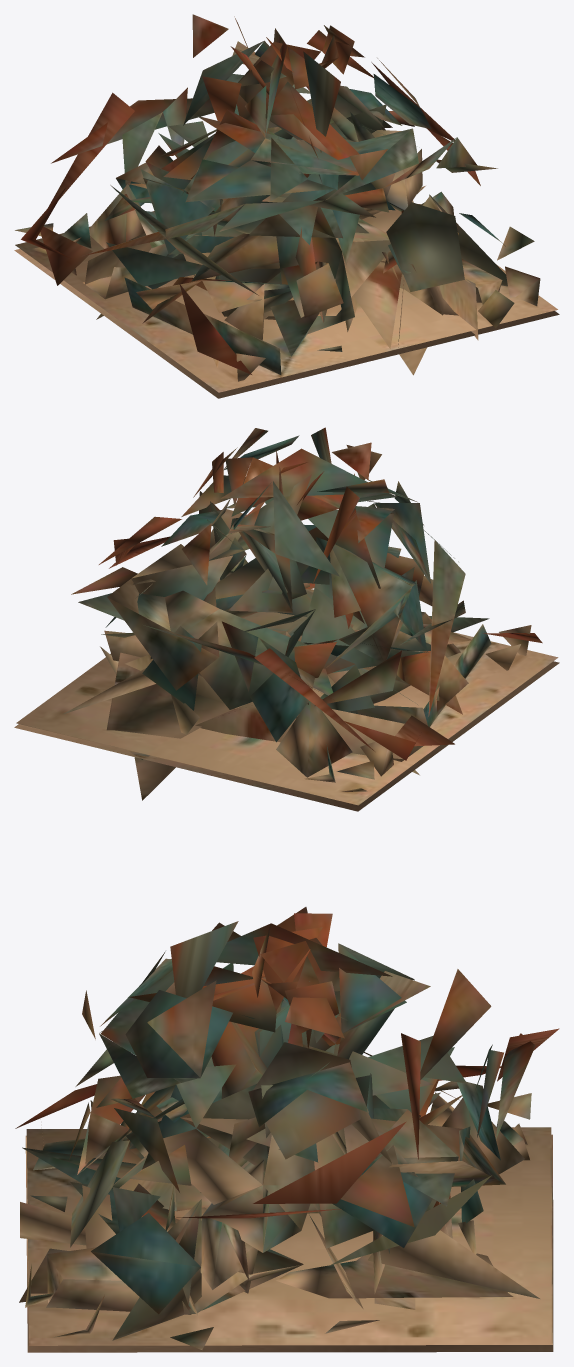
The model's file is salvage-copper.lod1.glb.
The picture shows the model from 3 angles, top to bottom: view 1: azimuth 30°, elevation 25°; view 2: azimuth 150°, elevation 25°; view 3: azimuth 270°, elevation 25°; orthographic projection. The views are drawn at different scales.
Parts seen in each view (by area): view 1: salvage-copper_lod1; view 2: salvage-copper_lod1; view 3: salvage-copper_lod1.
Part boxes in pixels (bbox=[...]): salvage-copper_lod1: bbox=[14, 14, 559, 398]; salvage-copper_lod1: bbox=[14, 427, 559, 811]; salvage-copper_lod1: bbox=[15, 907, 559, 1352].
Bounding box in the file's own units: 0.9565 × 0.7253 × 0.8698.
1 material, 1 textured.
